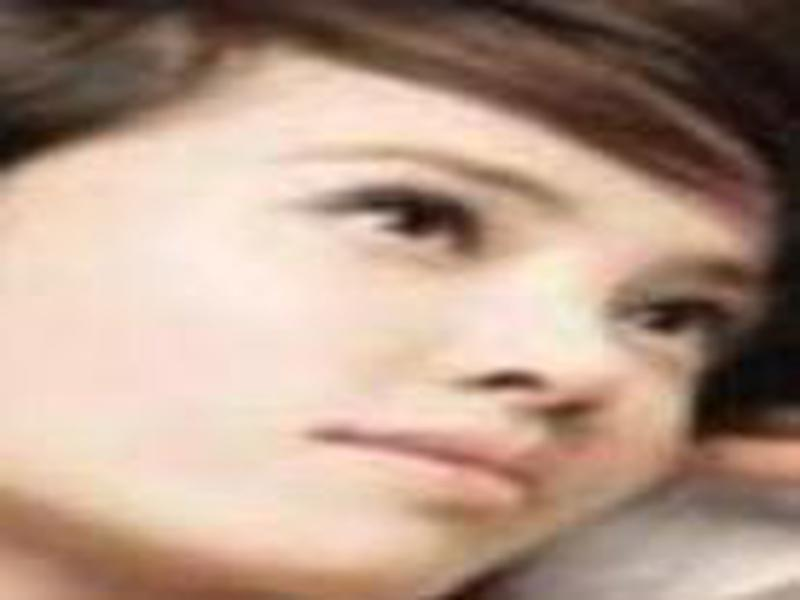without_mask: (14, 31, 776, 585)
